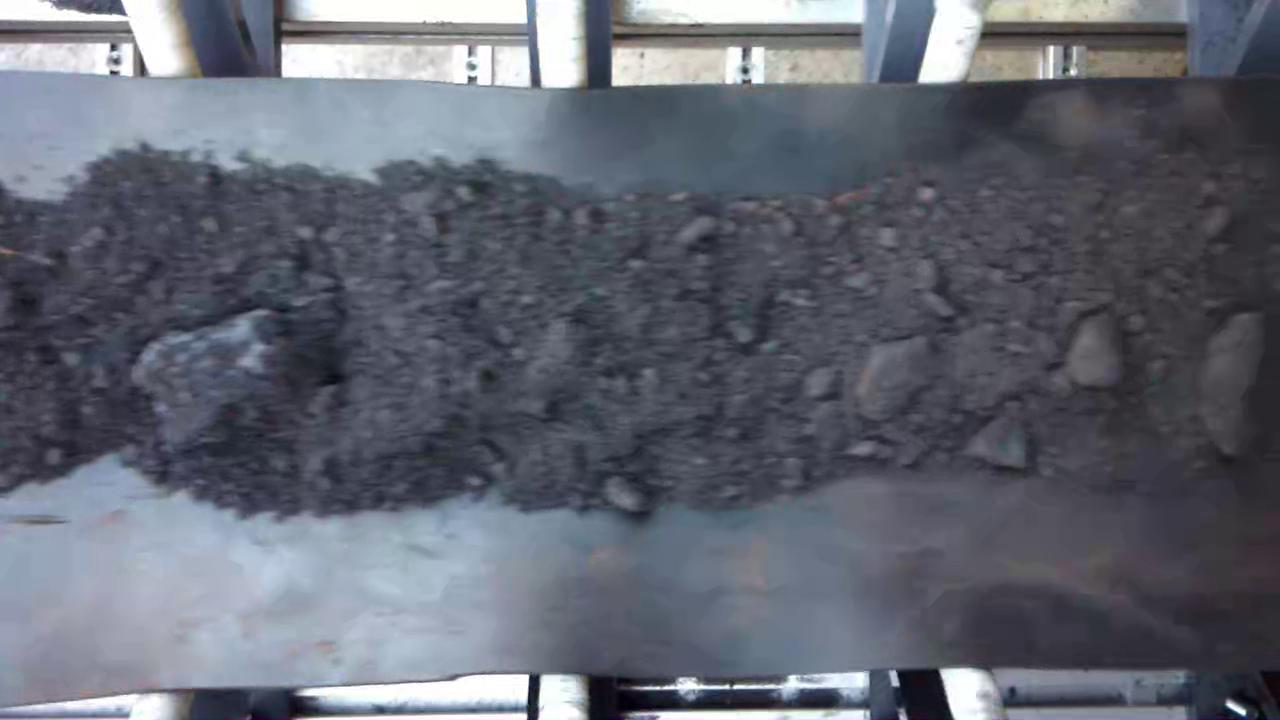conveyor: (3, 86, 1280, 668)
